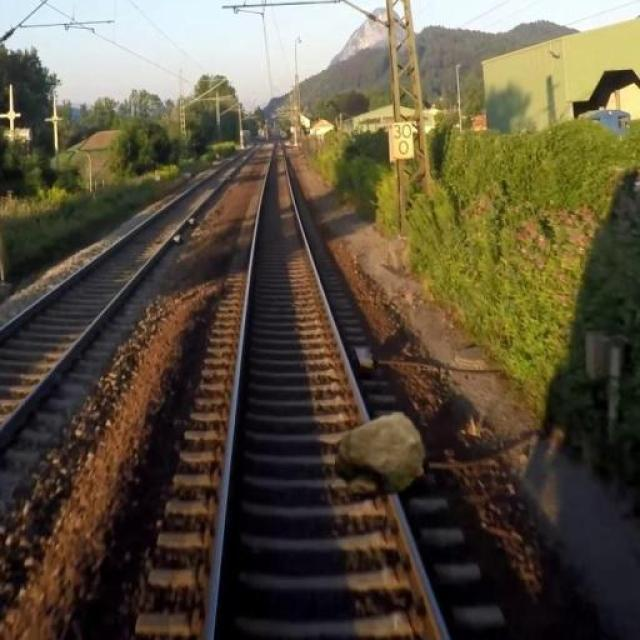Stone: (332, 406, 432, 491)
